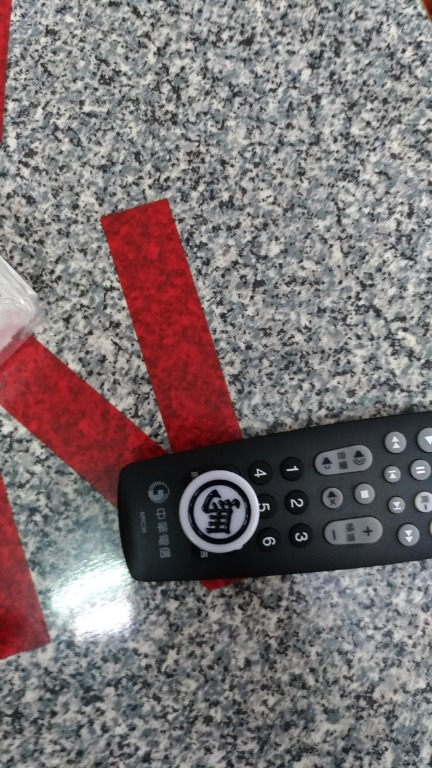b-knight: (166, 456, 277, 575)
